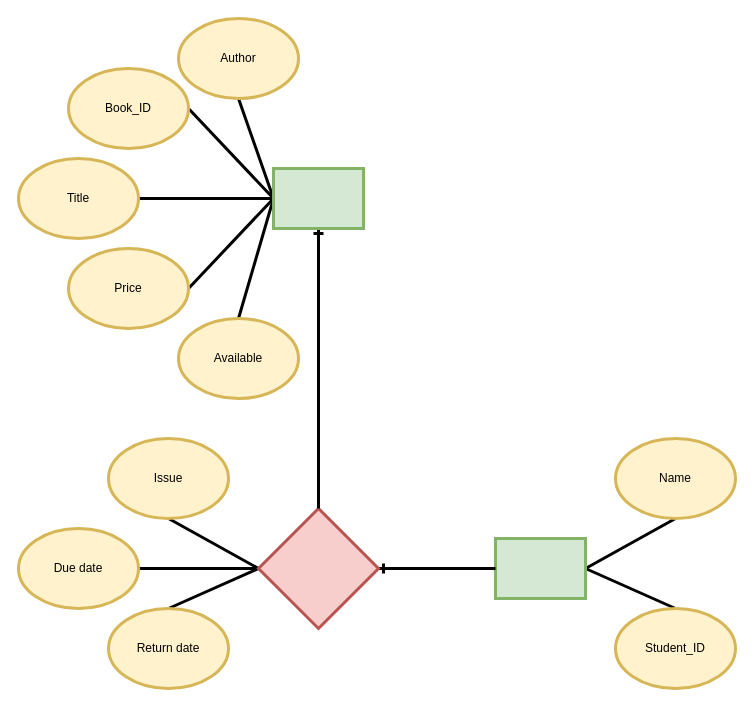
This 754x707 diagram has some shape labels left out. Here are the shapes that lost their labels. From the top down, the box of each, then its label:
(272, 166, 364, 230): Books
(256, 506, 380, 630): Borrowed By
(494, 536, 586, 600): Students
